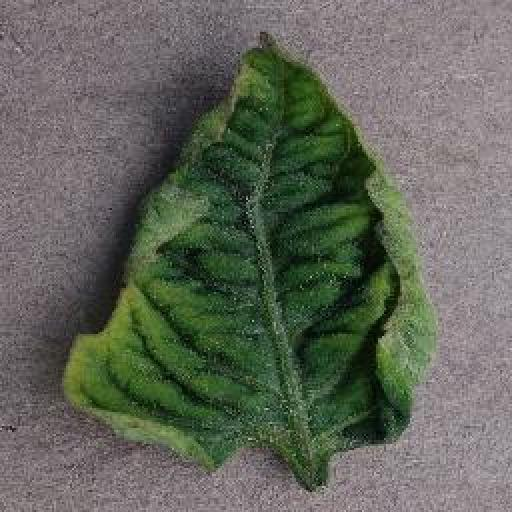disease_tomato: (58, 31, 432, 472)
